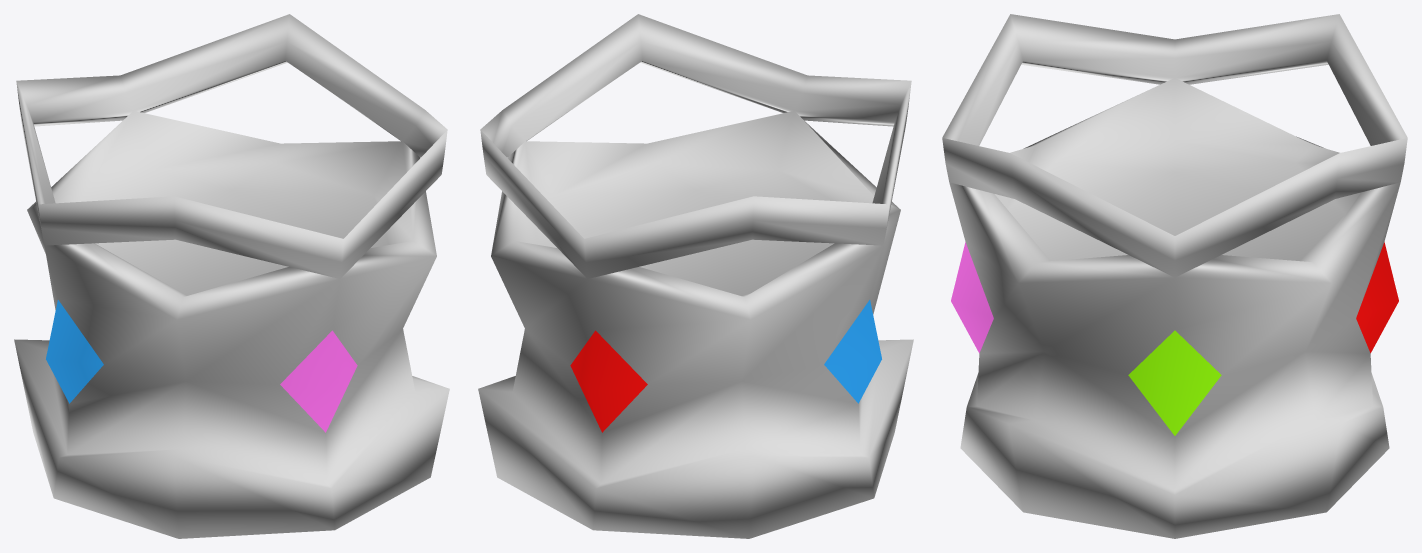
The model's file is Crown.glb.
3 views of the same model, side by side, from view 1: azimuth 30°, elevation 25°; view 2: azimuth 150°, elevation 25°; view 3: azimuth 270°, elevation 25° (orthographic). The views are drawn at different scales.
Visible parts, largest first — view 1: Crown; view 2: Crown; view 3: Crown.
Part boxes in pixels (<box>): Crown: <box>14,14,449,538</box>; Crown: <box>478,14,913,538</box>; Crown: <box>942,14,1407,538</box>.
Bounding box in the file's own units: 2 × 1.73 × 2.
2 materials, 1 textured.
